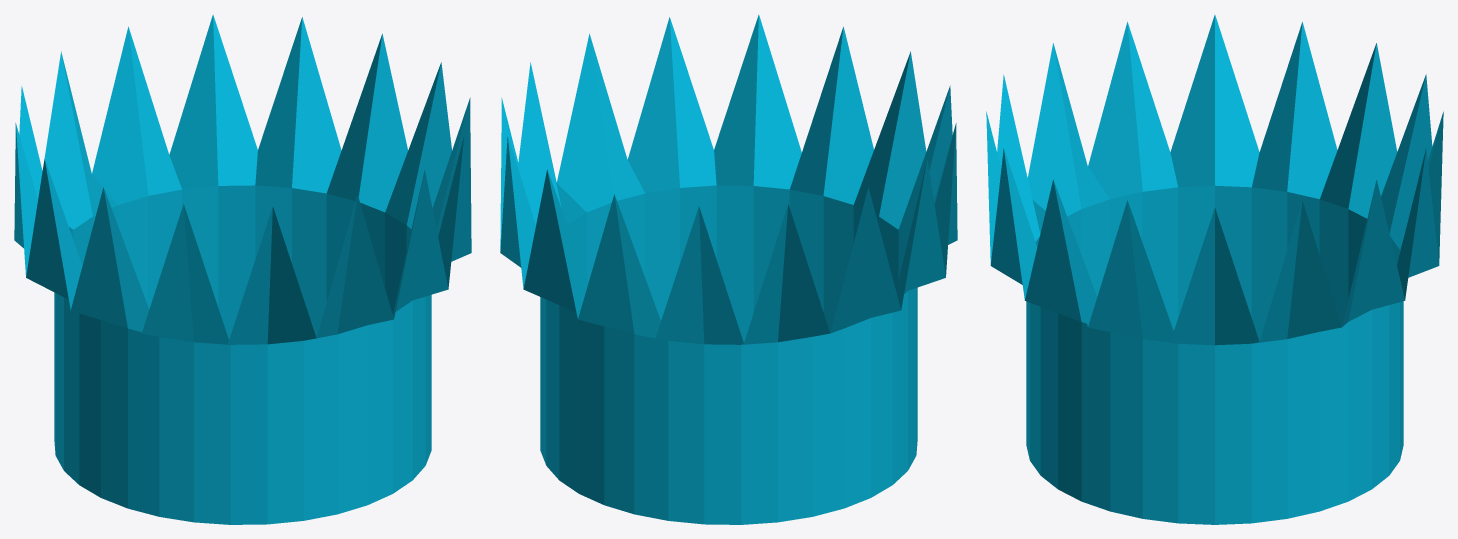
File: StolicaMoja.glb
3 views of the same model, side by side, from view 1: azimuth 30°, elevation 25°; view 2: azimuth 150°, elevation 25°; view 3: azimuth 270°, elevation 25° (orthographic).
Visible parts, largest first — view 1: StolicaMoja; view 2: StolicaMoja; view 3: StolicaMoja.
Boxes of the visible parts, bbox=[...] form: StolicaMoja: bbox=[14, 14, 471, 524]; StolicaMoja: bbox=[500, 14, 957, 524]; StolicaMoja: bbox=[986, 15, 1443, 524].
Size of the model in its own units: 1.52 by 1.23 by 1.52.
